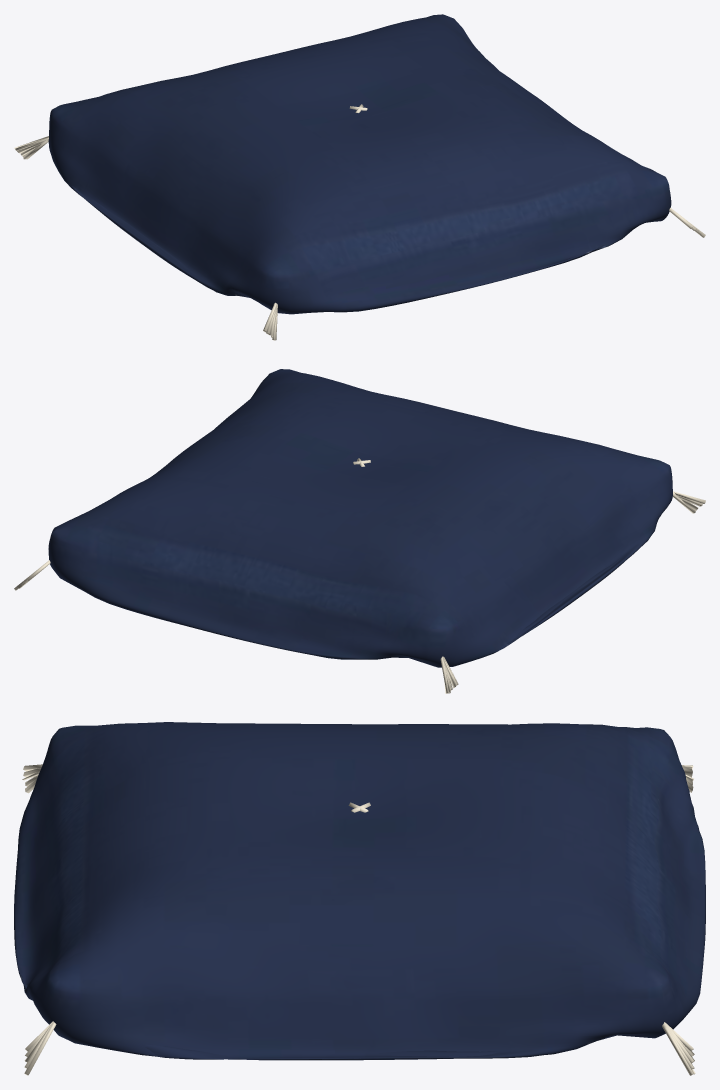
Rendered from zabuton_indigo.glb.
3 views of the same model, one above another, from view 1: azimuth 30°, elevation 25°; view 2: azimuth 150°, elevation 25°; view 3: azimuth 270°, elevation 25° (orthographic). The views are drawn at different scales.
Visible parts, largest first — view 1: zabuton_indigo_cushion, zabuton_indigo_thread; view 2: zabuton_indigo_cushion, zabuton_indigo_thread; view 3: zabuton_indigo_cushion, zabuton_indigo_thread.
Part boxes in pixels (box(x1,y1,x2,y2)): zabuton_indigo_cushion: box(48, 14, 671, 314); zabuton_indigo_thread: box(14, 104, 705, 340); zabuton_indigo_cushion: box(48, 369, 672, 667); zabuton_indigo_thread: box(14, 458, 705, 693); zabuton_indigo_cushion: box(14, 722, 705, 1060); zabuton_indigo_thread: box(22, 764, 695, 1075).
Size of the model in its own units: 1.18 by 0.2474 by 1.18.
Materials: 2 (1 with a texture image).
